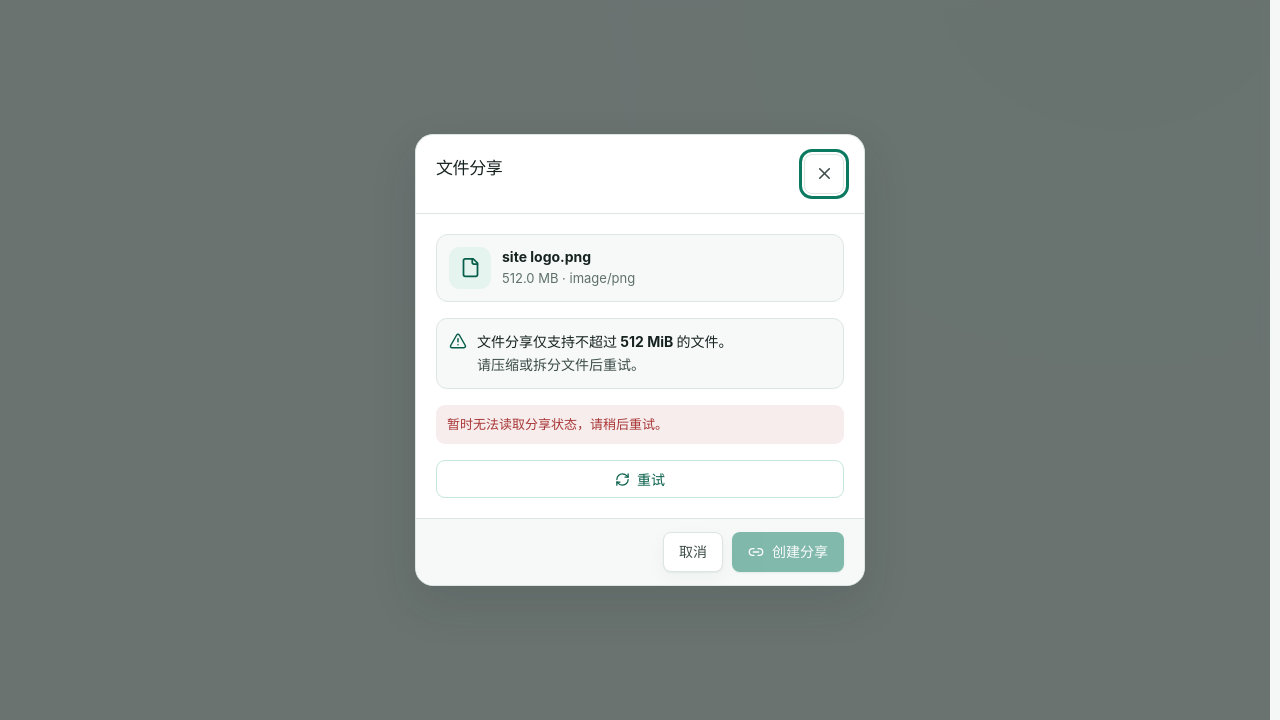
Scenario: FileShareDialog hash-only sharing › allows an oversized share-state lookup to be retried before stopping a historical share
The image size is (1280, 720).
Click the button "重试".
click(640, 479)  # box [436, 460, 844, 498]
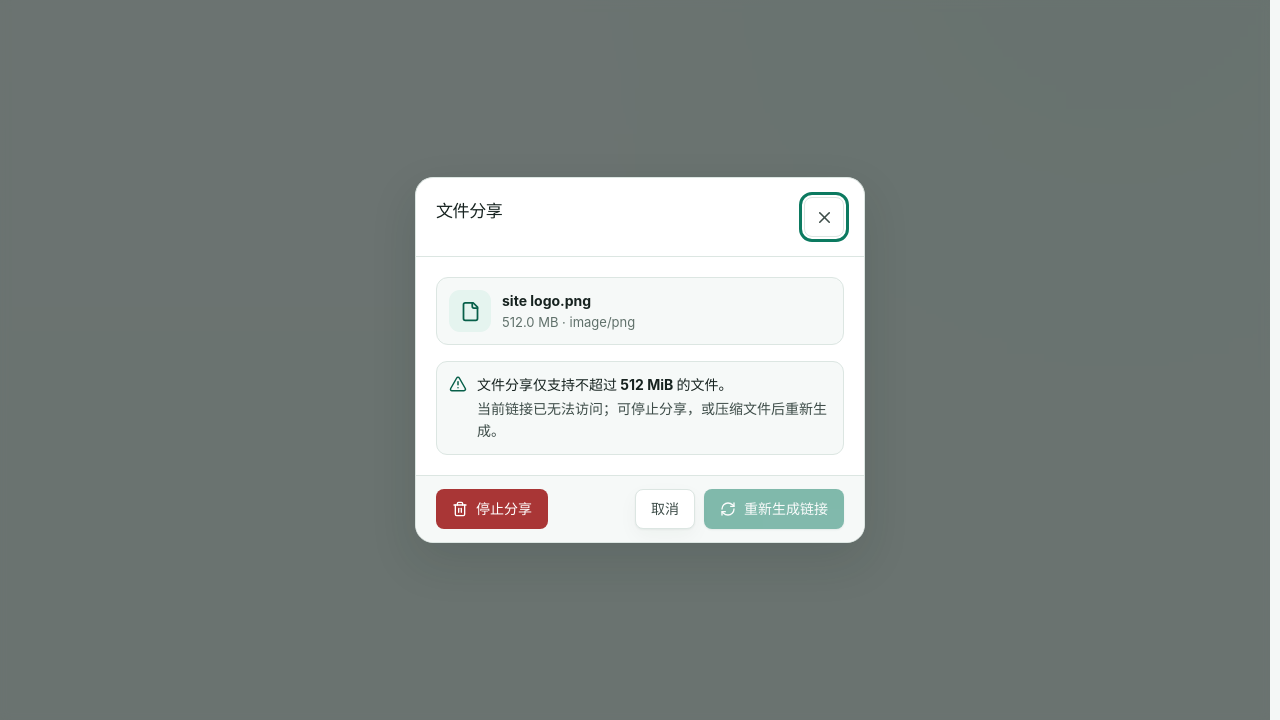
Now the button "停止分享" is enabled, box [436, 488, 548, 528]
Now the text "暂时无法读取分享状态" is gone
